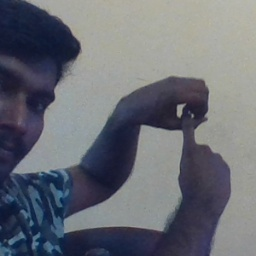Q: (126, 73, 236, 195)
